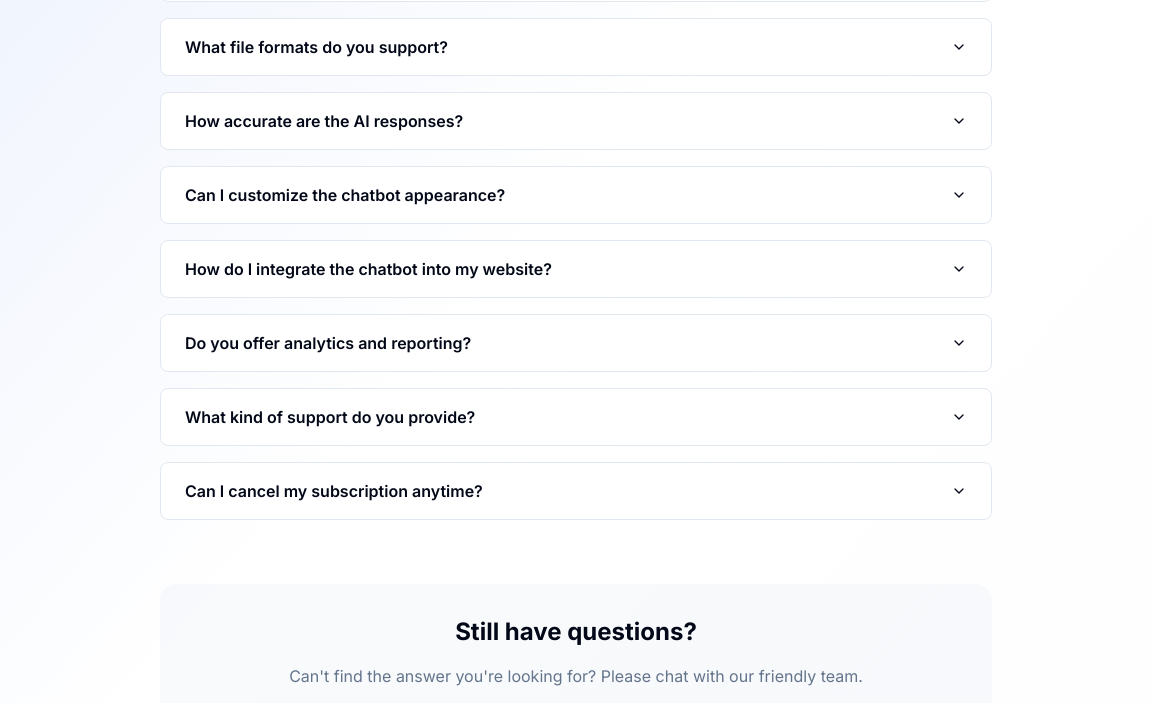
Test: FAQ › should display analytics FAQ
(page scrolled)
What coordinates should you click on to do the following:
click the button "Do you offer analytics and reporting?"
I would click on:
 (328, 343)
Its box is [185, 315, 967, 371].
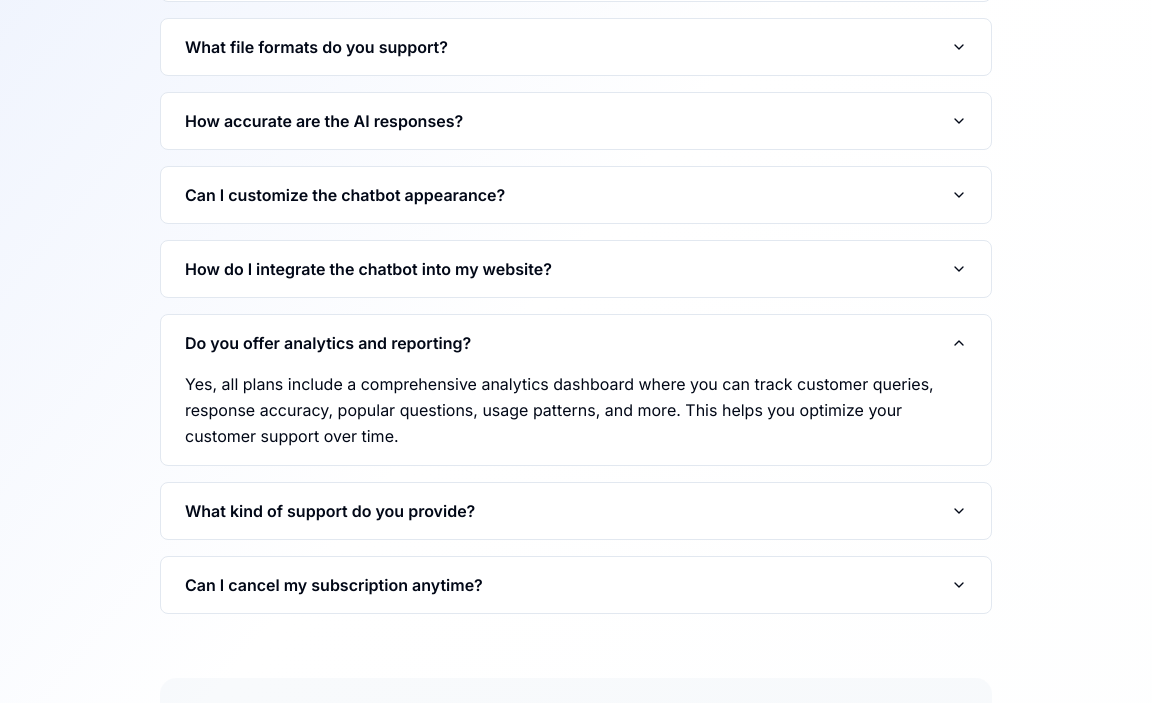
Check: the text "Yes, all plans include a comprehensive analytics dashboard where you can track customer queries, response accuracy, popu" is shown, box [185, 374, 934, 446]
